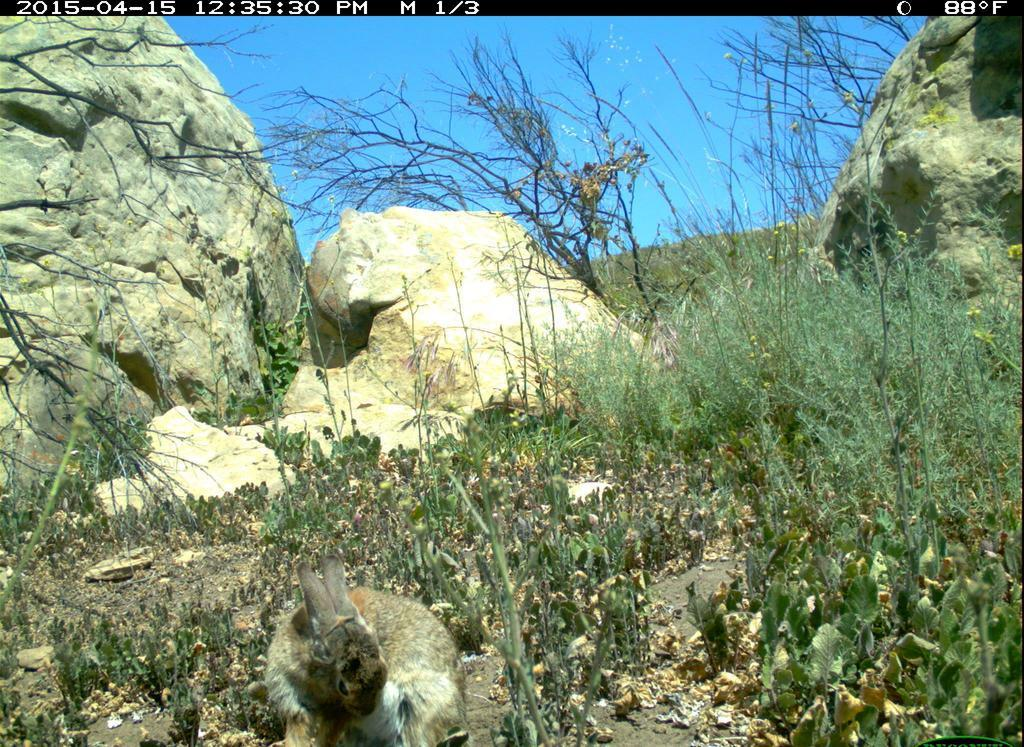rabbit: (242, 542, 472, 744)
